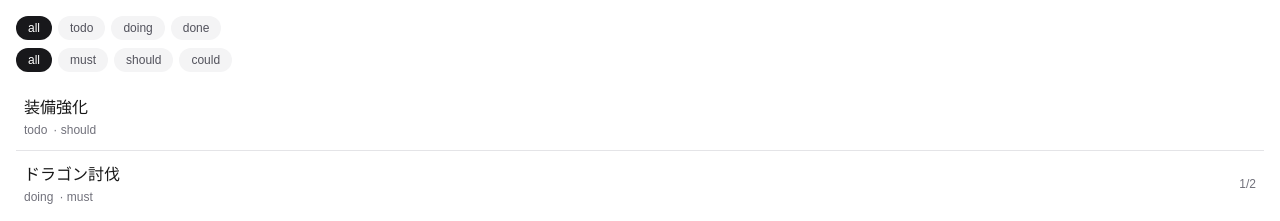
Test case: GameNotesView › filters by status when a status chip is clicked
The image size is (1280, 221).
Expected: the text "装備強化" is shown, x1=24 y1=99 x2=88 y2=116
Click the button "doing": (138, 28) x1=111 y1=16 x2=165 y2=40
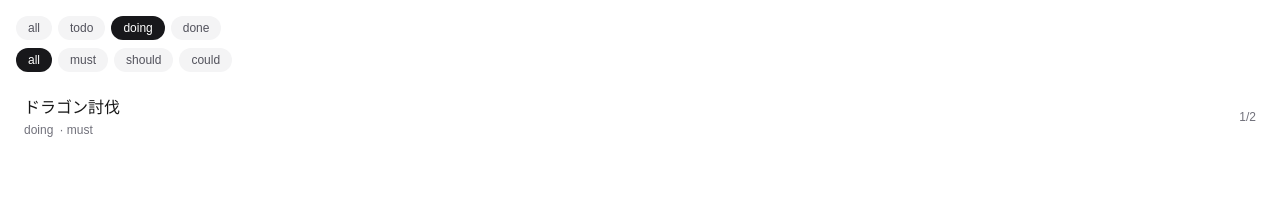
Expected: the text "ドラゴン討伐" is shown, x1=24 y1=99 x2=120 y2=116
Expected: the link "装備強化" is gone
